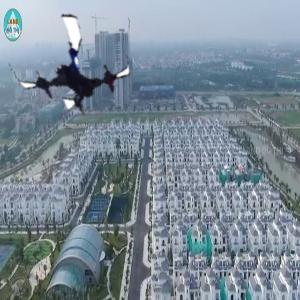drone: (11, 5, 133, 127)
